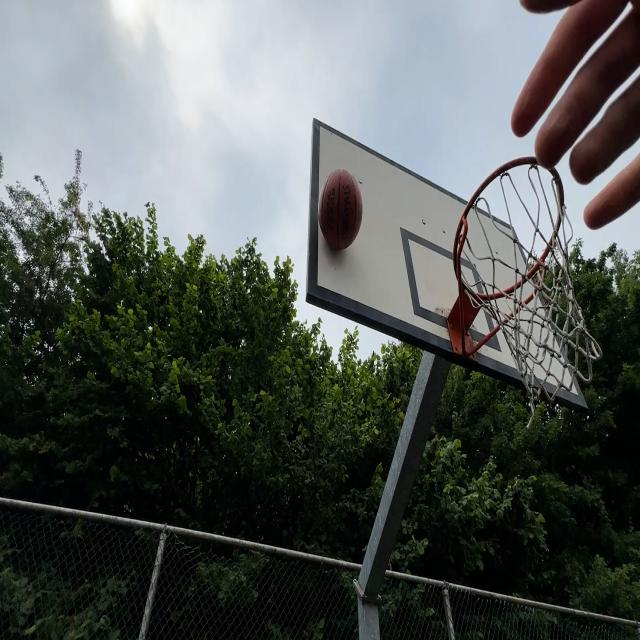rebound_hit: (318, 169, 364, 258)
